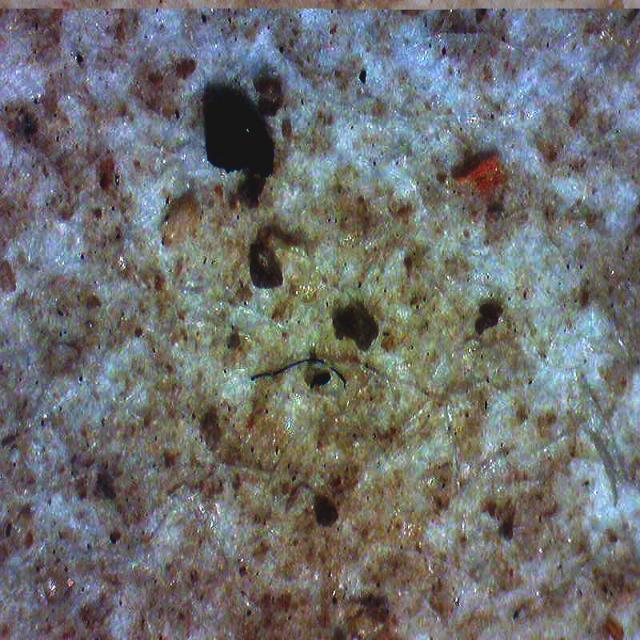microplastic: (249, 357, 347, 389)
